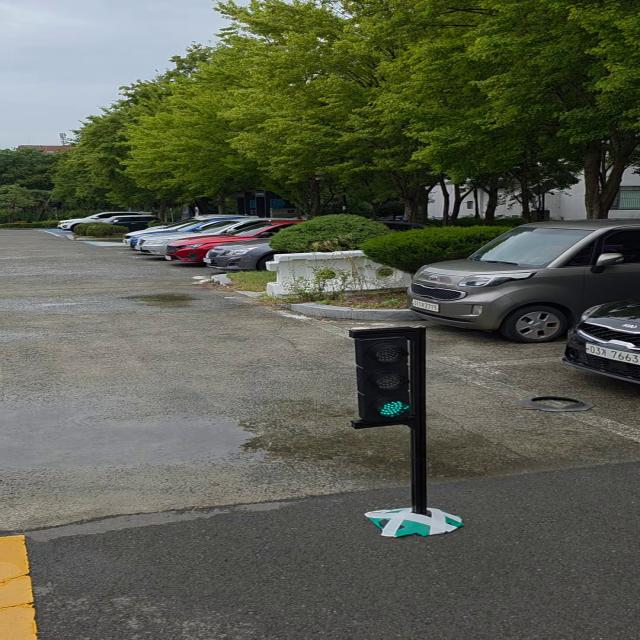green: (357, 332, 427, 426)
